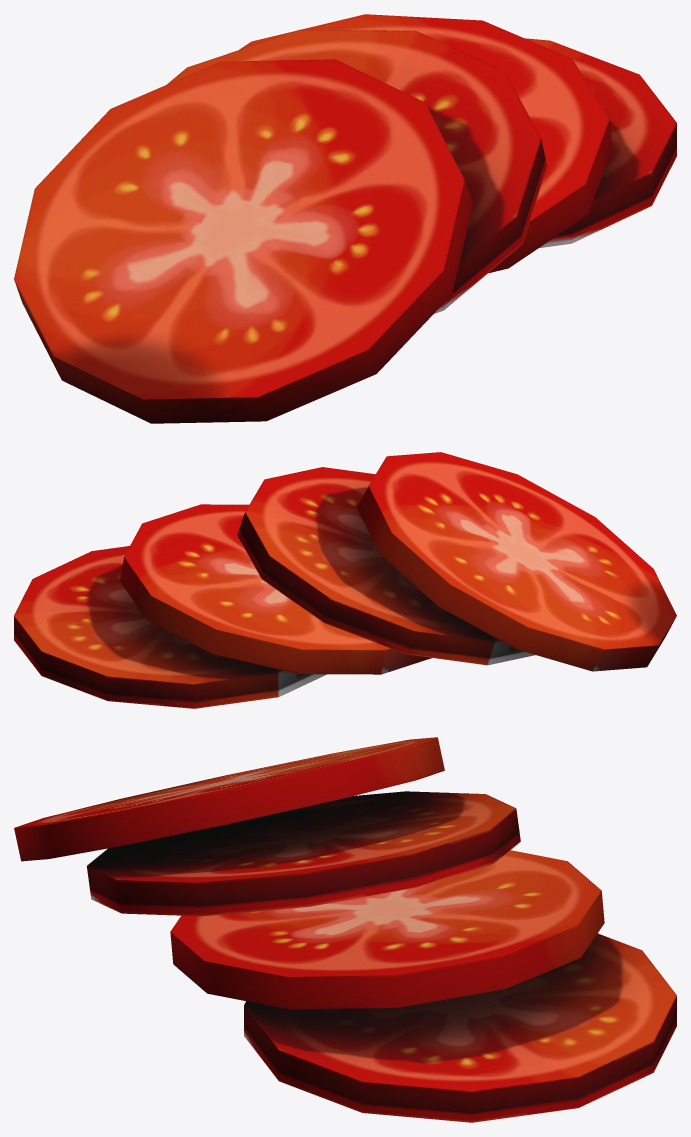
File: TomatoSliced.fbx
3 views of the same model, one above another, from view 1: azimuth 30°, elevation 25°; view 2: azimuth 150°, elevation 25°; view 3: azimuth 270°, elevation 25° (orthographic). The views are drawn at different scales.
Parts seen in each view (by area): view 1: TomatoCut; view 2: TomatoCut; view 3: TomatoCut.
Boxes of the visible parts, x1,y1,x2,y2 form: TomatoCut: (14,14,676,423); TomatoCut: (14,452,676,708); TomatoCut: (14,737,676,1122).
Bounding box in the file's own units: 154 × 43.76 × 132.
